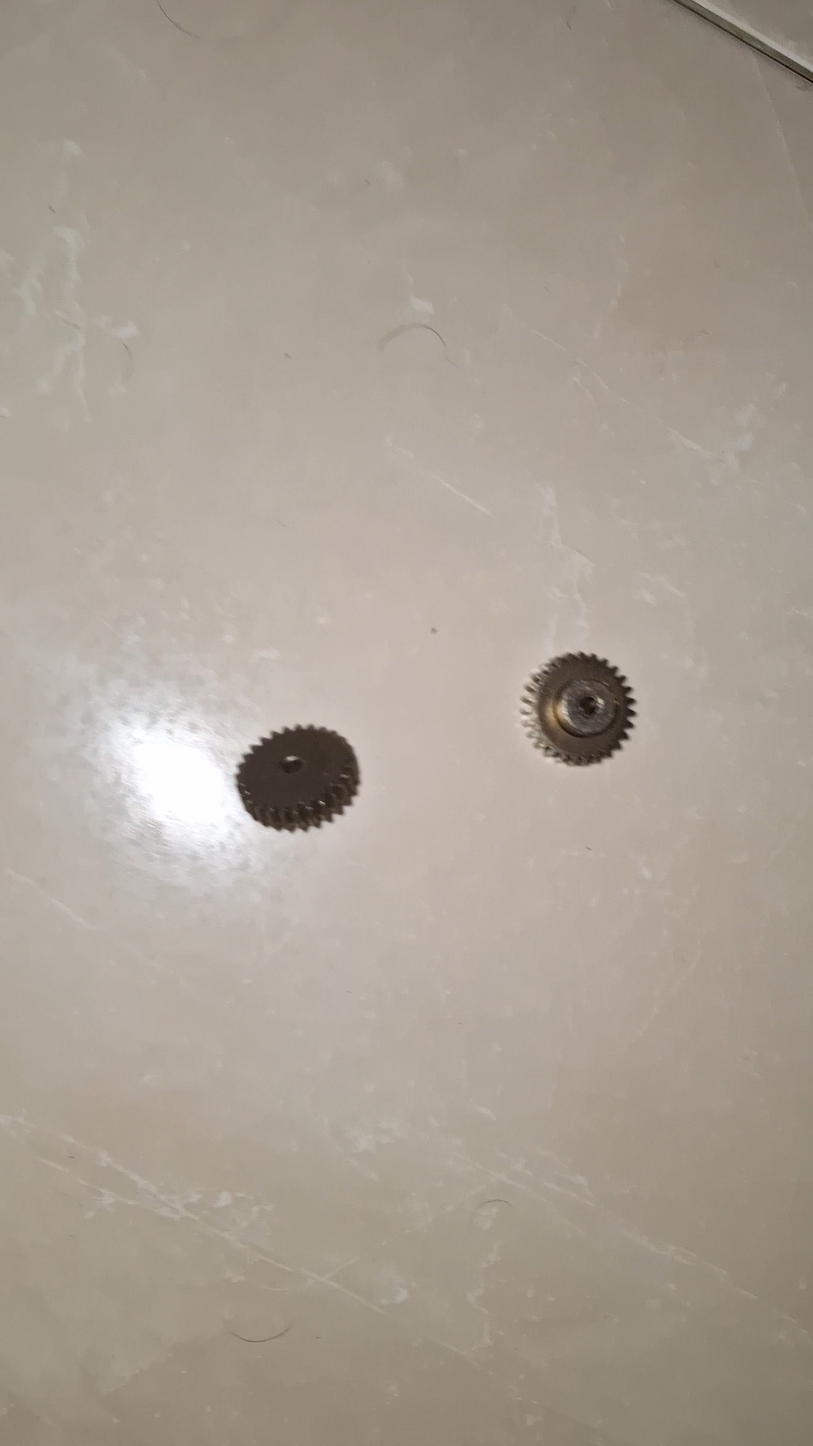spur gear: (237, 726, 358, 831), (521, 654, 635, 765)
